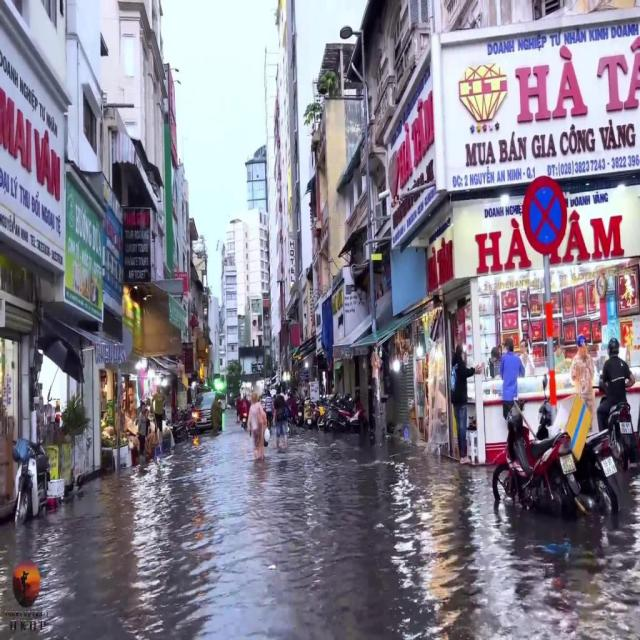cam_dung_xe_va_do_xe: (522, 176, 567, 256)
